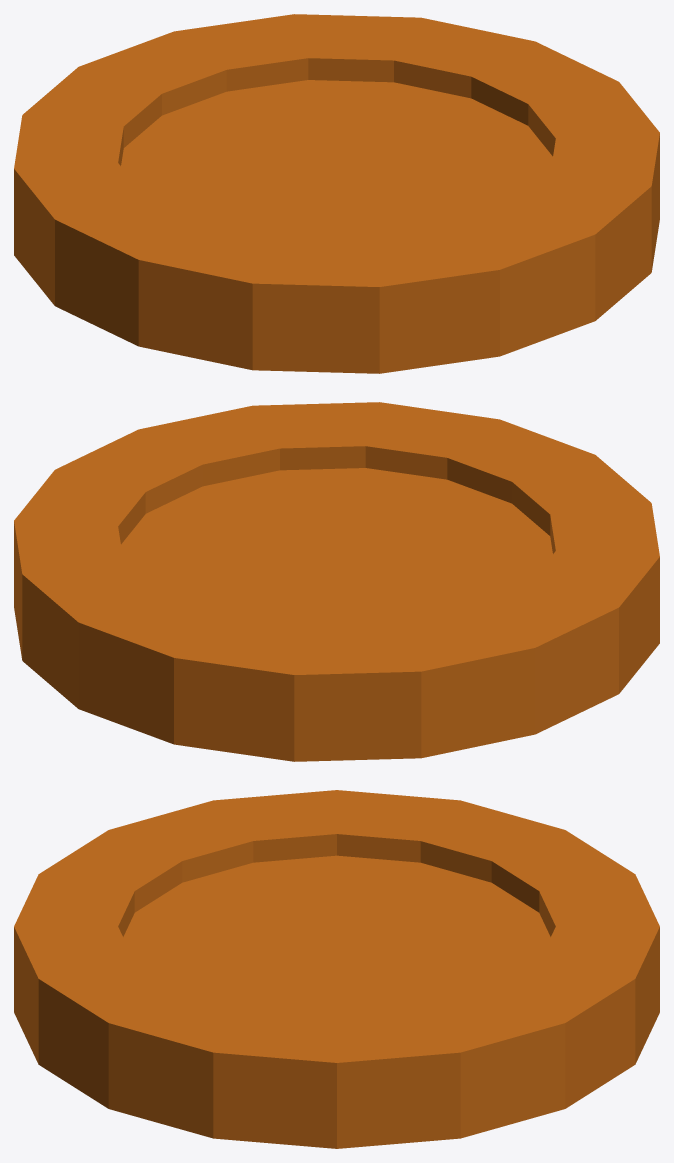
Rendered from coin_SK.FBX.
3 views of the same model, one above another, from view 1: azimuth 30°, elevation 25°; view 2: azimuth 150°, elevation 25°; view 3: azimuth 270°, elevation 25° (orthographic).
Visible parts, largest first — view 1: coin; view 2: coin; view 3: coin.
Part boxes in pixels (box(x1,y1,x2,y2)): coin: box(14, 14, 659, 373); coin: box(14, 402, 659, 761); coin: box(14, 790, 659, 1148).
Size of the model in its own units: 0.4935 by 0.4935 by 0.0724.
